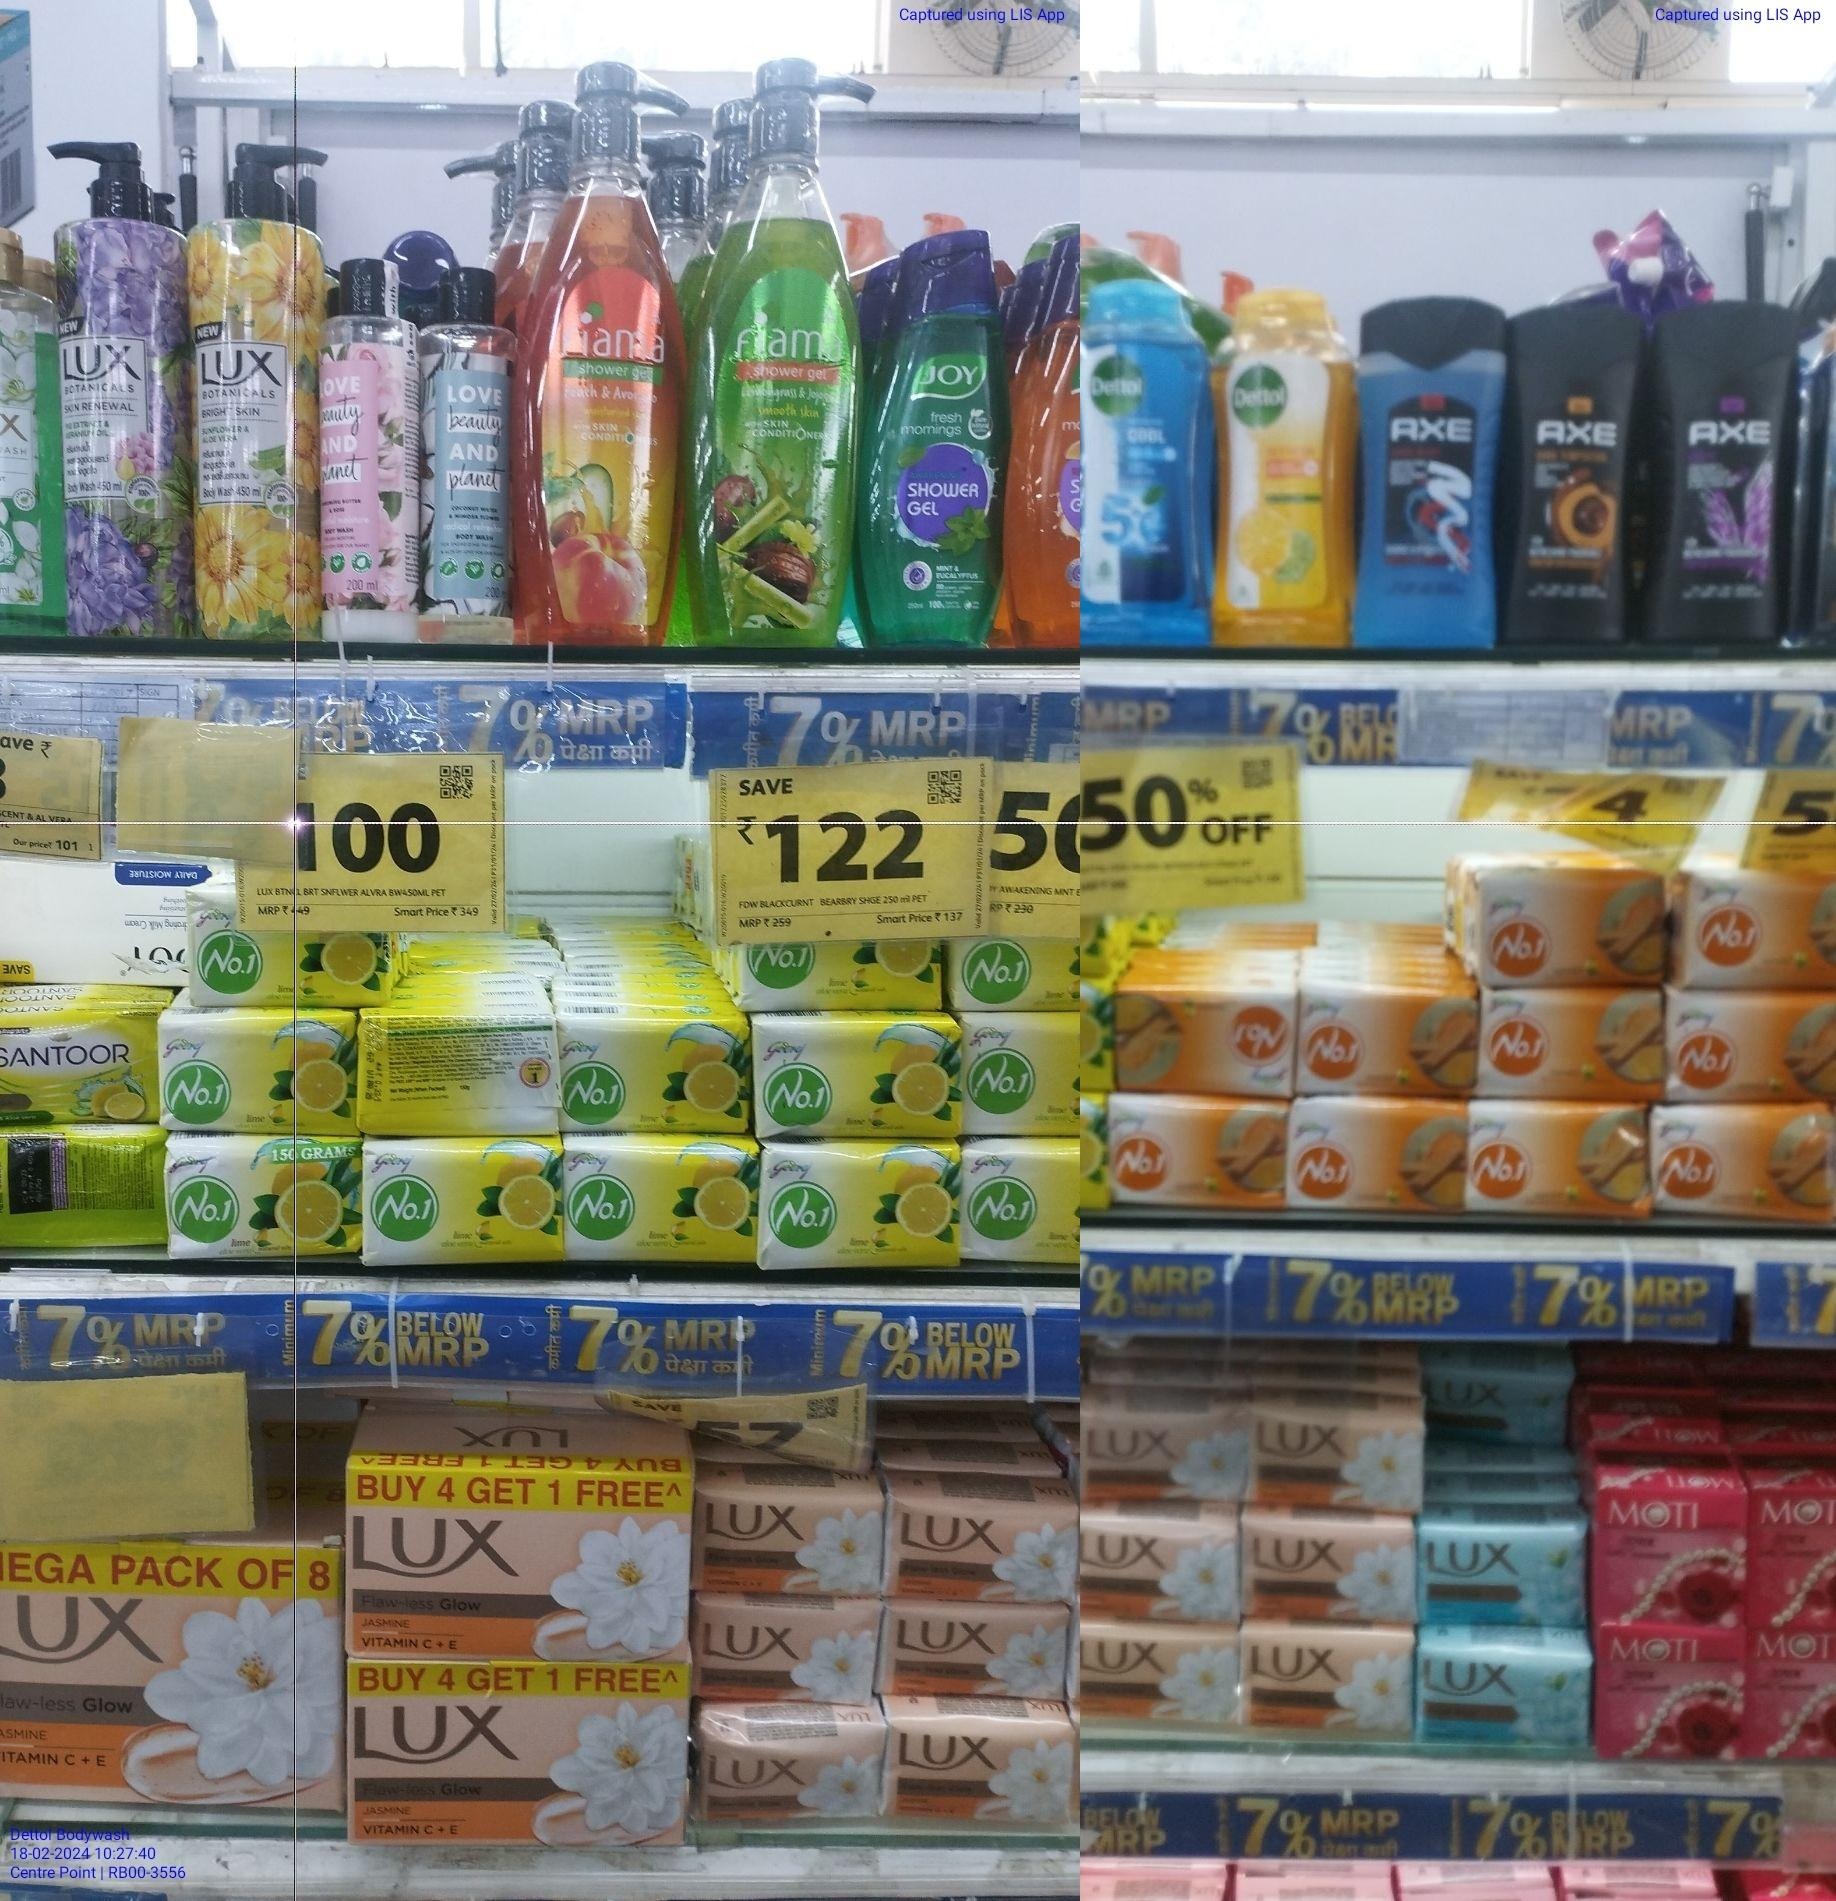Dettol_Bodywash_Cool: (1081, 282, 1205, 650)
Dettol_Bodywash_Refresh: (1213, 289, 1349, 657)
Joy_Shower_Gel_Mint_and_Eucalyptus_250ML: (857, 227, 1001, 648)
